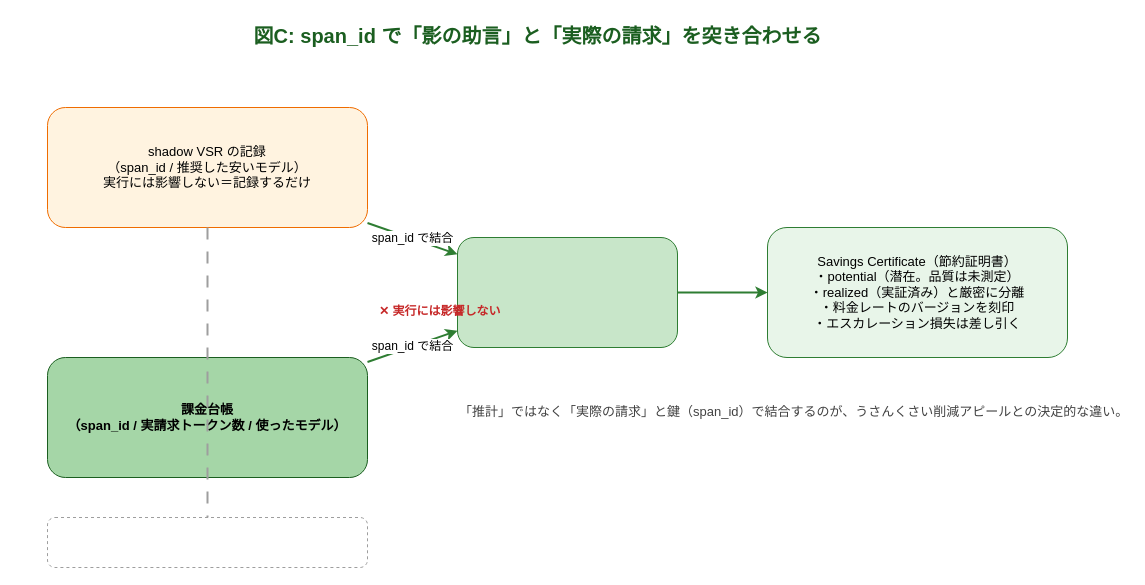
Some shapes in this 1145 by 585 pixel diagram are drawn without their labels. The box of each missing label's shape, as (x1, y1, x2, y2) in pixels:
実行パス（実際に走るモデル）: (46, 516, 368, 568)
日次バッチ span_id で JOIN（突合）: (456, 236, 678, 348)
